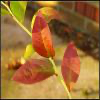Blueberry leaf: (31, 8, 57, 60), (10, 57, 58, 85), (61, 40, 81, 92)
